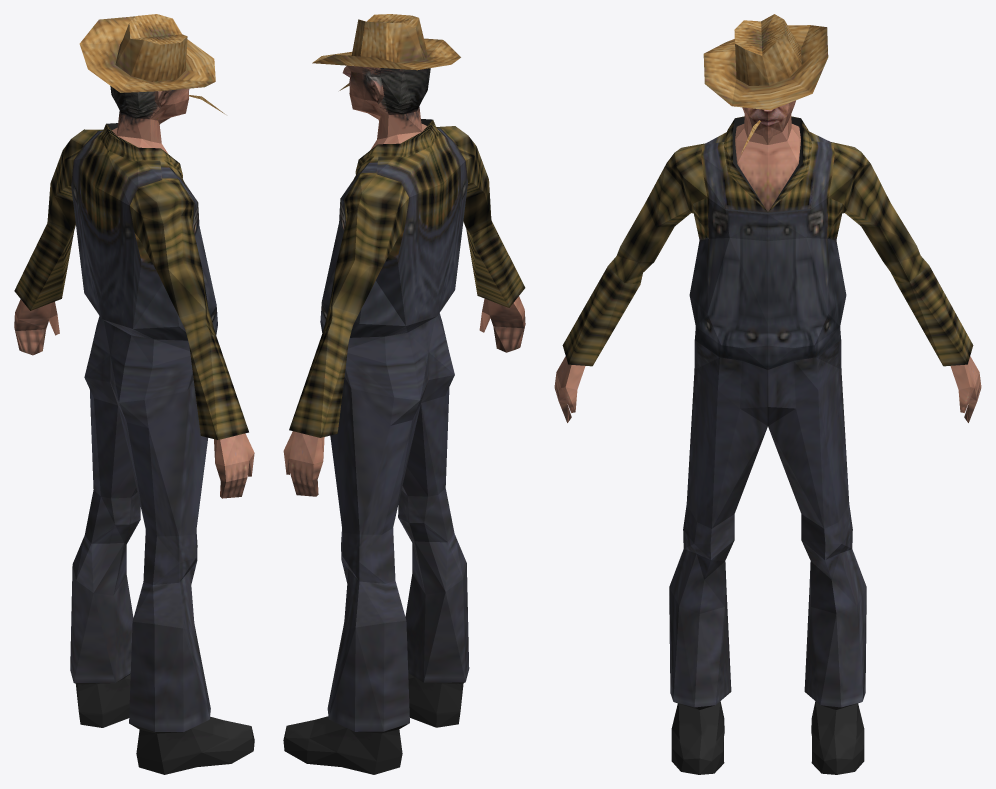
The model's file is cwmofr.obj.
3 views of the same model, side by side, from view 1: azimuth 30°, elevation 25°; view 2: azimuth 150°, elevation 25°; view 3: azimuth 270°, elevation 25° (orthographic).
Visible parts, largest first — view 1: _Pelvis; view 2: _Pelvis; view 3: _Pelvis.
Part boxes in pixels (x1,y1,x2,y2): _Pelvis: [14, 14, 254, 774]; _Pelvis: [283, 14, 525, 774]; _Pelvis: [554, 14, 981, 774].
Bounding box in the file's own units: 0.3621 × 1.87 × 1.
Materials: 1 (1 with a texture image).
